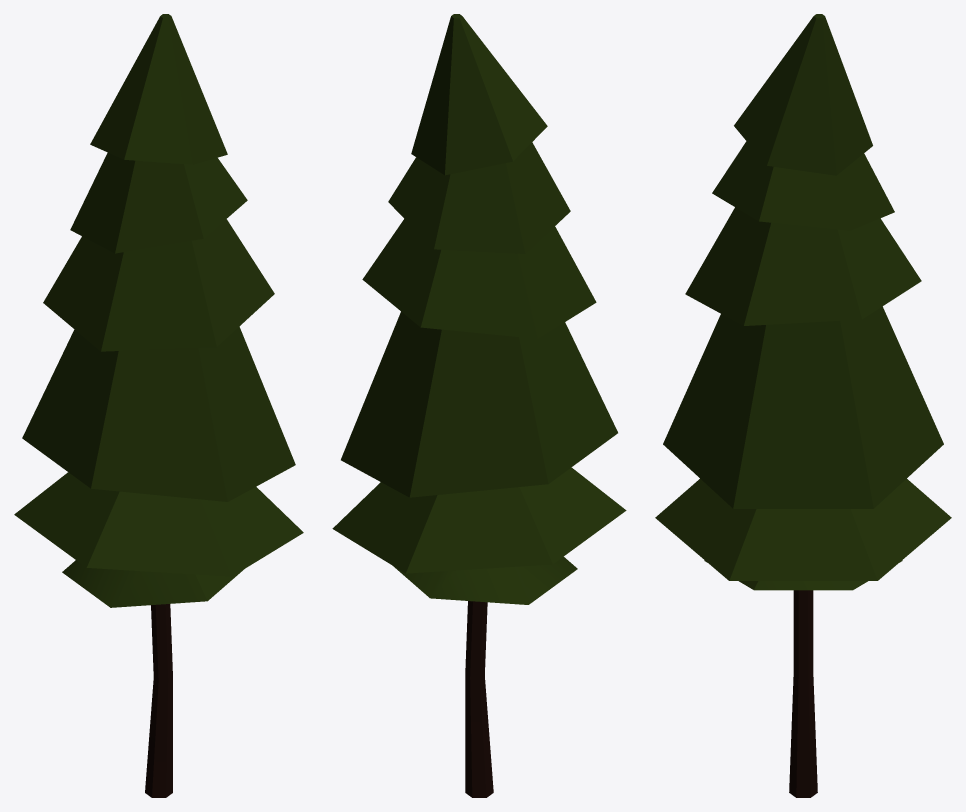
The model's file is Tree2.fbx.
3 renders of one model, left to right at view 1: azimuth 30°, elevation 25°; view 2: azimuth 150°, elevation 25°; view 3: azimuth 270°, elevation 25°, orthographic. The views are drawn at different scales.
Parts seen in each view (by area): view 1: Arbol2; view 2: Arbol2; view 3: Arbol2.
Boxes of the visible parts, bbox=[...] form: Arbol2: bbox=[14, 14, 303, 797]; Arbol2: bbox=[332, 14, 626, 797]; Arbol2: bbox=[655, 14, 951, 797].
Size of the model in its own units: 715 by 2411 by 828.
